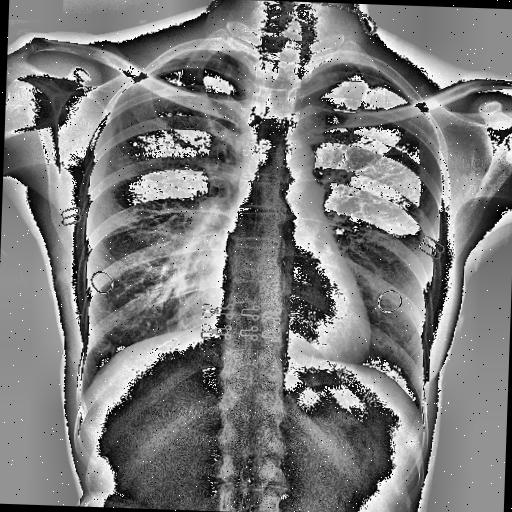11- Pleural thickening: (165, 48, 243, 76), (304, 60, 385, 80), (172, 44, 222, 62), (172, 46, 231, 60)
13- Pulmonary fibrosis: (330, 164, 378, 180), (318, 180, 344, 198), (114, 118, 128, 143)
